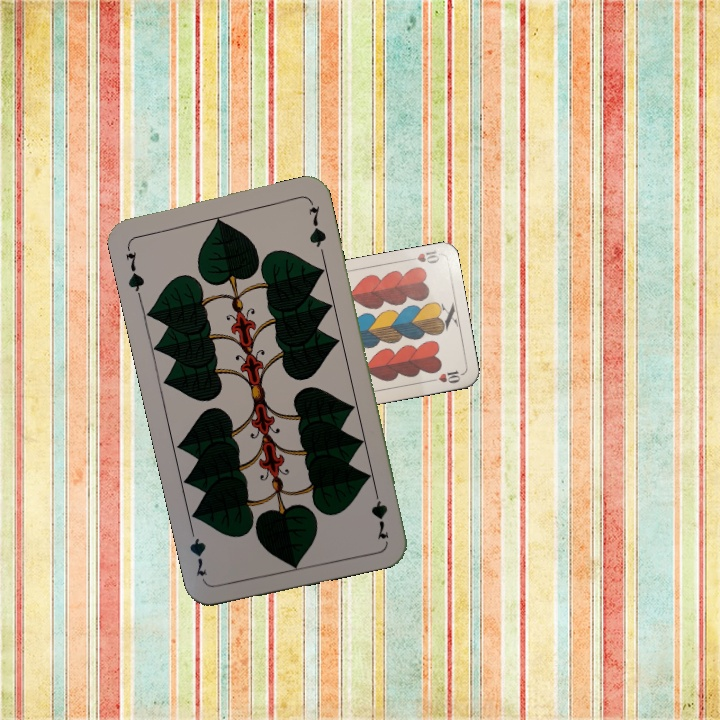G7: (121, 241, 147, 300), (367, 483, 392, 542)
H10: (401, 246, 442, 266)
